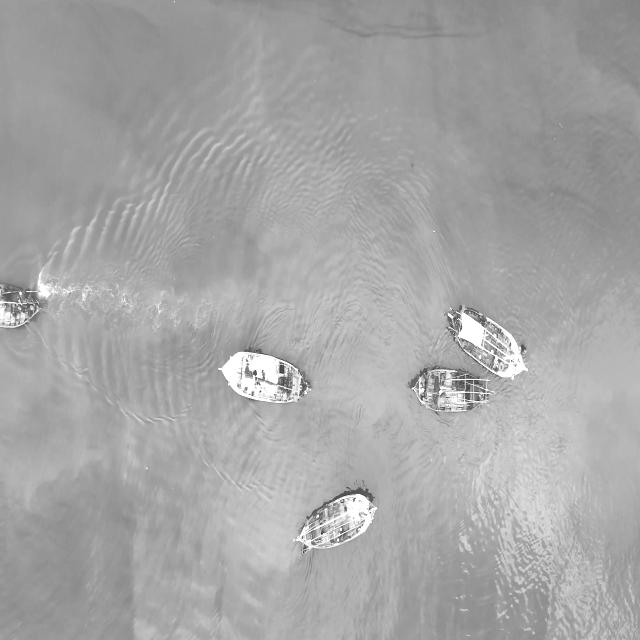ship: (446, 297, 530, 383), (294, 482, 376, 559), (213, 349, 310, 401), (405, 365, 484, 423), (4, 273, 42, 332)
